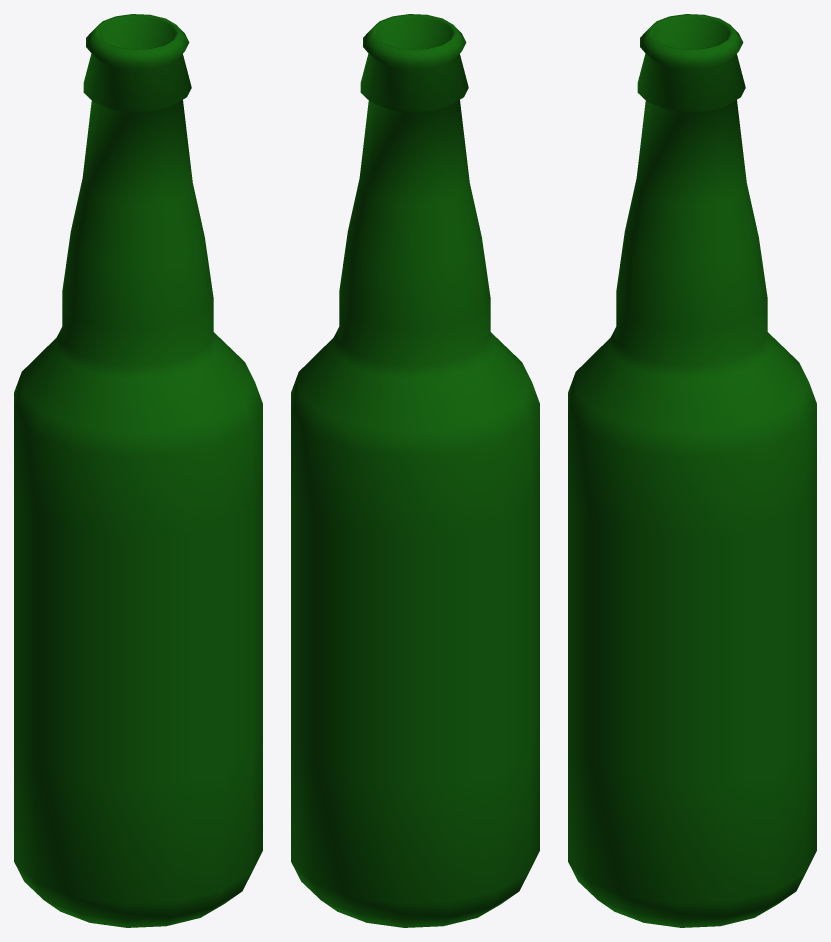
The model's file is garrafa.fbx.
3 renders of one model, left to right at view 1: azimuth 30°, elevation 25°; view 2: azimuth 150°, elevation 25°; view 3: azimuth 270°, elevation 25°, orthographic.
Parts seen in each view (by area): view 1: Garrafa; view 2: Garrafa; view 3: Garrafa.
Part boxes in pixels (x1,y1,x2,y2): Garrafa: (14,14,262,927); Garrafa: (291,14,539,927); Garrafa: (568,14,816,927).
Size of the model in its own units: 108 by 406 by 107.
